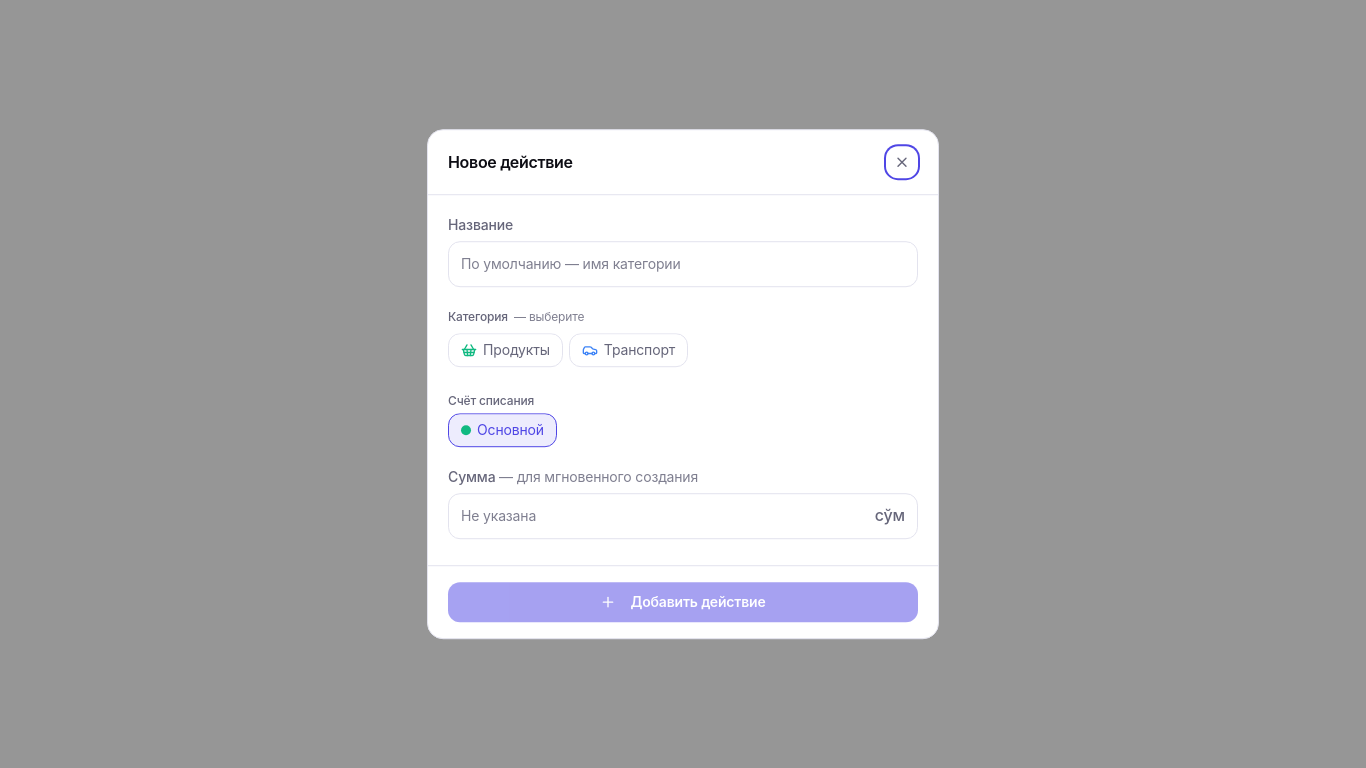
Test: QuickActionModal › validation › save button becomes enabled after category chip clicked
Click the button "Продукты".
click(505, 350)  # box [448, 333, 563, 367]
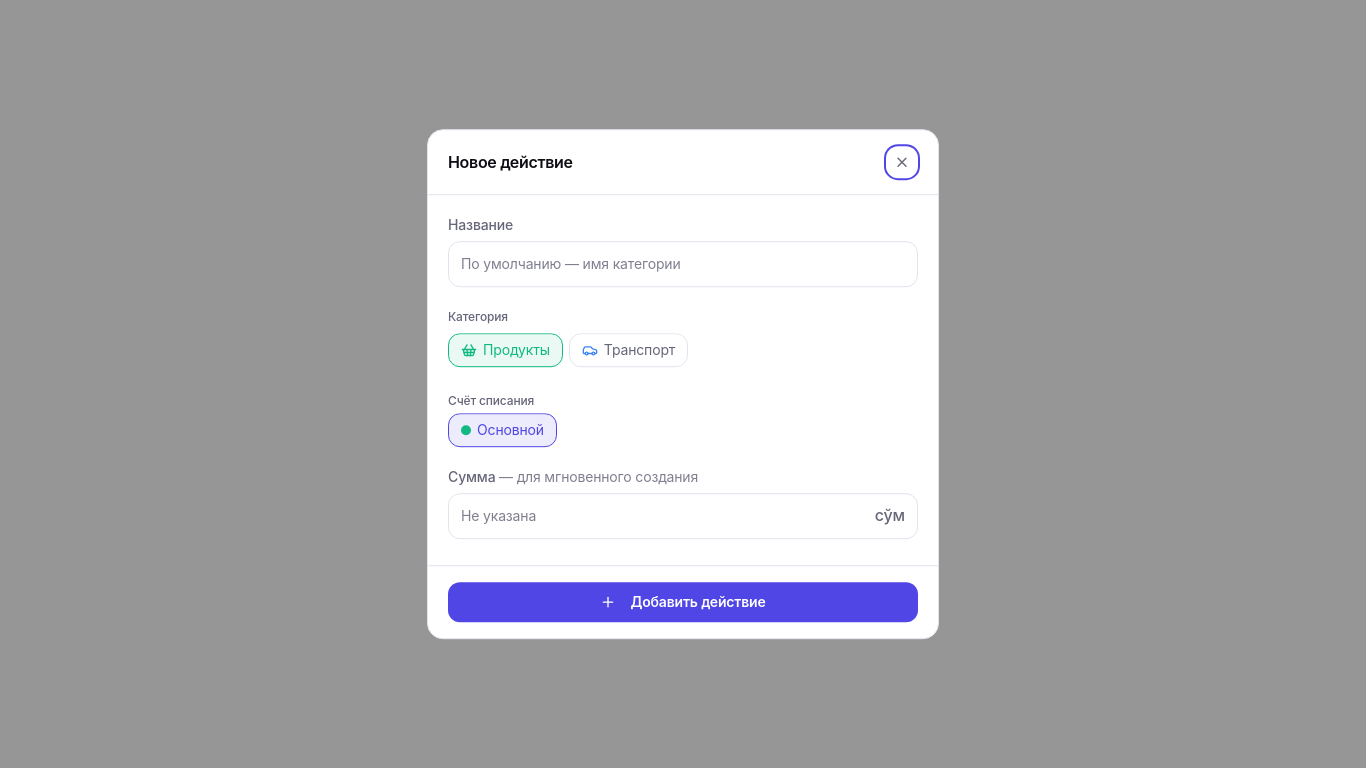
expect the button "Добавить действие" is enabled: met, box [448, 582, 918, 622]
